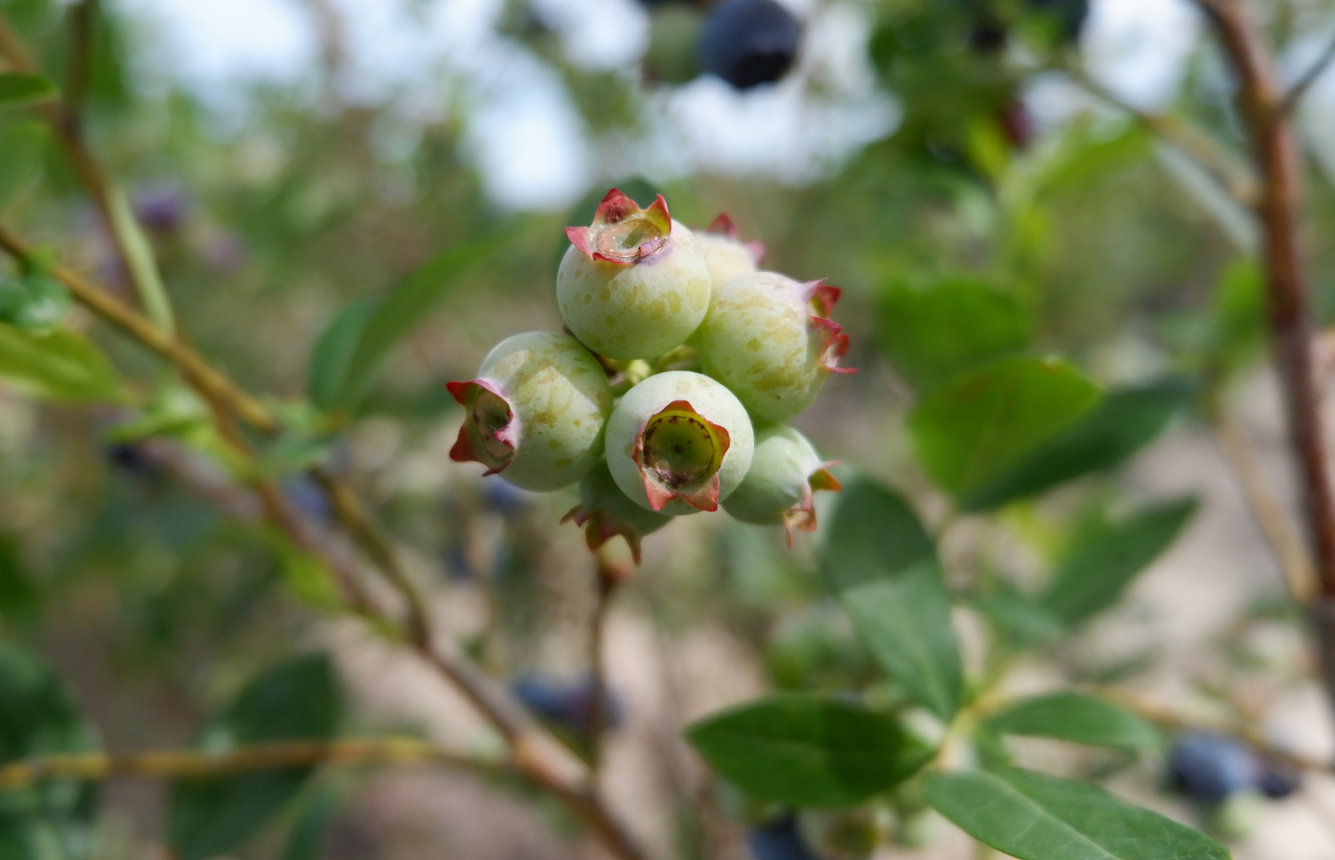Immature: (560, 188, 706, 358), (454, 337, 610, 484), (694, 277, 849, 417), (609, 373, 751, 508), (724, 430, 837, 530), (566, 465, 666, 556), (694, 214, 764, 295)
